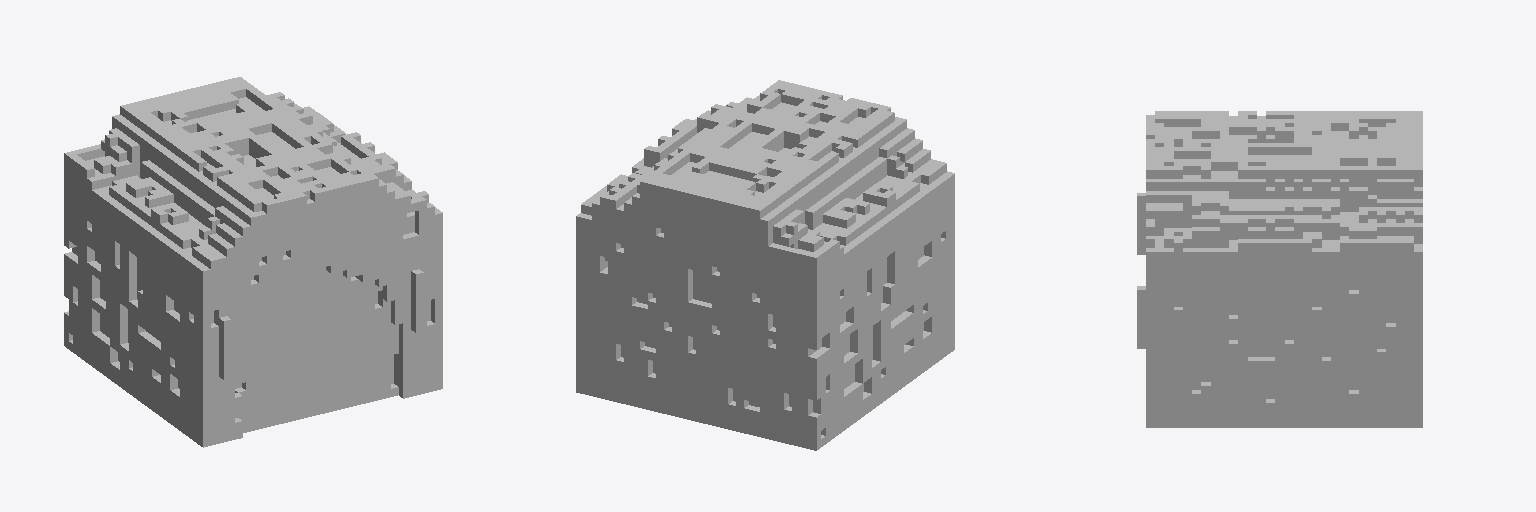
File: Cave entrance.obj
The picture shows the model from 3 angles: view 1: azimuth 30°, elevation 25°; view 2: azimuth 150°, elevation 25°; view 3: azimuth 270°, elevation 25°; orthographic projection.
Visible parts, largest first — view 1: object 1; view 2: object 1; view 3: object 1.
Boxes of the visible parts, box(x1,y1,x2,y2) form: object 1: box(64, 77, 442, 447); object 1: box(576, 80, 954, 450); object 1: box(1137, 111, 1422, 427).
Bounding box in the file's own units: 3 × 2.7 × 3.1.